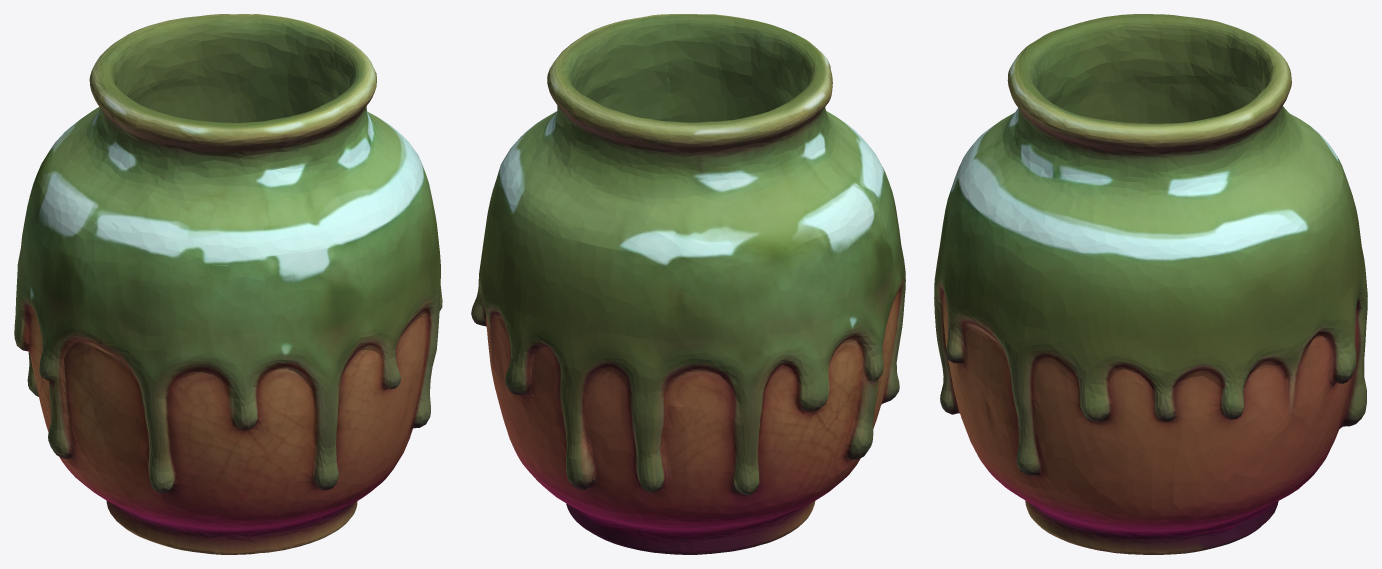
The model's file is vessel-04.glb.
3 views of the same model, side by side, from view 1: azimuth 30°, elevation 25°; view 2: azimuth 150°, elevation 25°; view 3: azimuth 270°, elevation 25° (orthographic).
Visible parts, largest first — view 1: tmppgyvvb_g.ply; view 2: tmppgyvvb_g.ply; view 3: tmppgyvvb_g.ply.
Boxes of the visible parts, left/top/right/bottom form: tmppgyvvb_g.ply: left=14, top=14, right=442, bottom=554; tmppgyvvb_g.ply: left=471, top=14, right=905, bottom=554; tmppgyvvb_g.ply: left=934, top=14, right=1367, bottom=554.
Bounding box in the file's own units: 1.81 × 1.99 × 1.8.
1 material, 1 textured.
